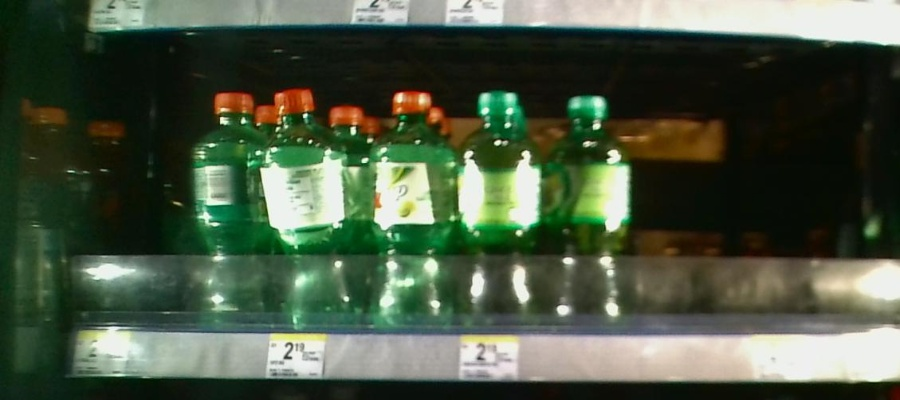bottle: (456, 85, 543, 329), (548, 83, 628, 334), (267, 89, 351, 327), (367, 90, 449, 330), (188, 87, 268, 327)
